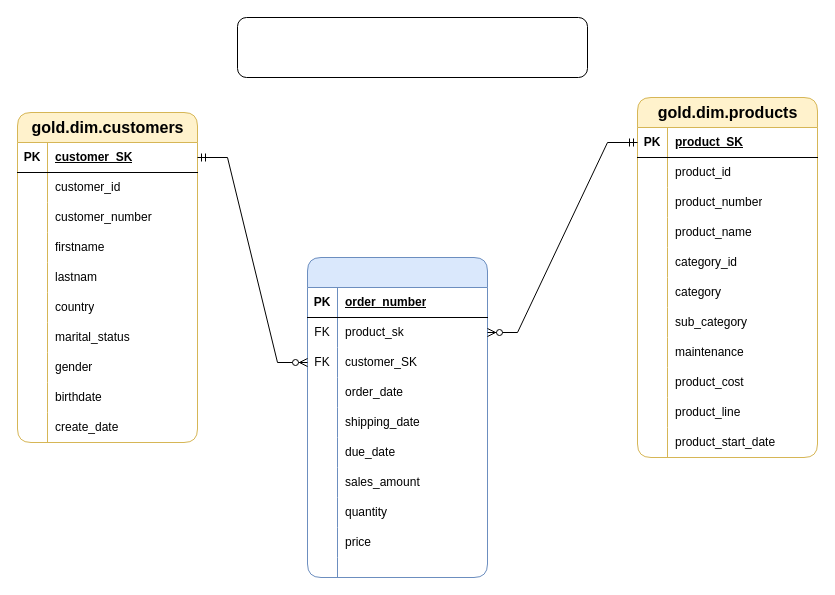
This 835x595 diagram has some shape labels left out. Each missing label, with the box of its shape:
gold.fact_sales: (306, 256, 488, 578)
Sales Data Star Schema: (236, 16, 588, 78)
